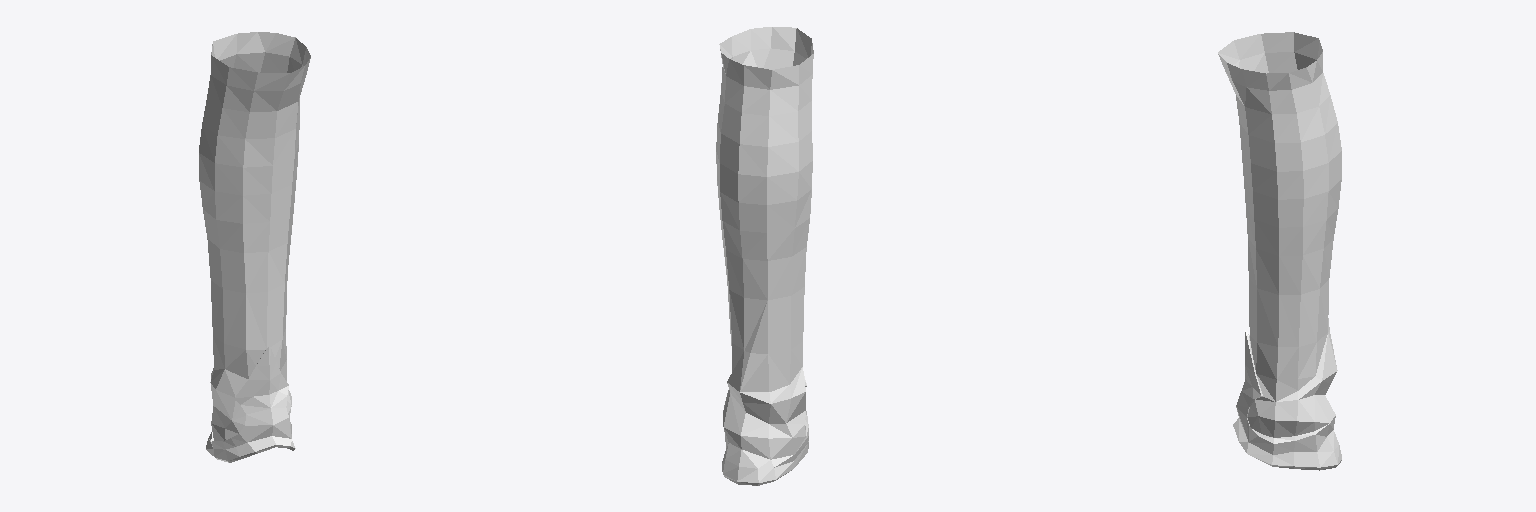
Rendered from Blade_PantorrillaDer.obj.
3 renders of one model, left to right at view 1: azimuth 30°, elevation 25°; view 2: azimuth 150°, elevation 25°; view 3: azimuth 270°, elevation 25°, orthographic.
Parts seen in each view (by area): view 1: Pantorrilla_Der; view 2: Pantorrilla_Der; view 3: Pantorrilla_Der.
Part boxes in pixels (bbox=[...]): Pantorrilla_Der: bbox=[199, 32, 310, 462]; Pantorrilla_Der: bbox=[716, 27, 813, 485]; Pantorrilla_Der: bbox=[1218, 32, 1341, 470].
Size of the model in its own units: 0.6064 by 2.7 by 0.7426.